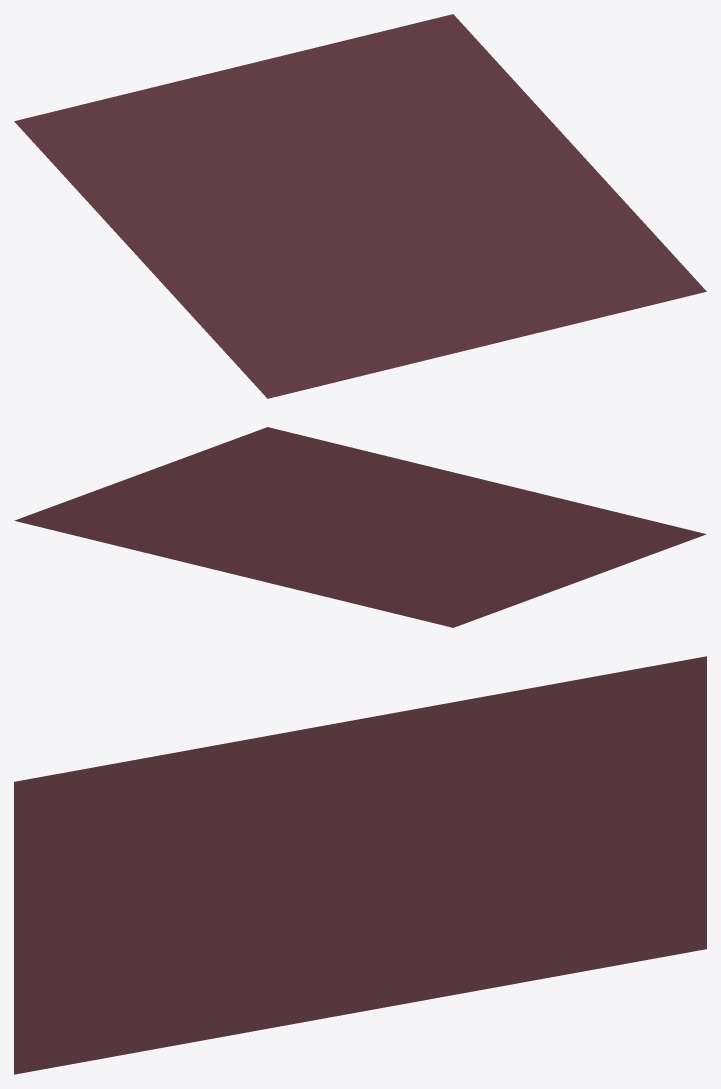
File: tiles-nb-tile-hill-nb.glb
The picture shows the model from 3 angles, top to bottom: view 1: azimuth 30°, elevation 25°; view 2: azimuth 150°, elevation 25°; view 3: azimuth 270°, elevation 25°; orthographic projection. The views are drawn at different scales.
Visible parts, largest first — view 1: tile-hill-nb; view 2: tile-hill-nb; view 3: tile-hill-nb.
Part boxes in pixels (<box>): tile-hill-nb: <box>14,14,706,398</box>; tile-hill-nb: <box>14,427,706,627</box>; tile-hill-nb: <box>14,656,706,1074</box>.
Size of the model in its own units: 30 by 6 by 30.
